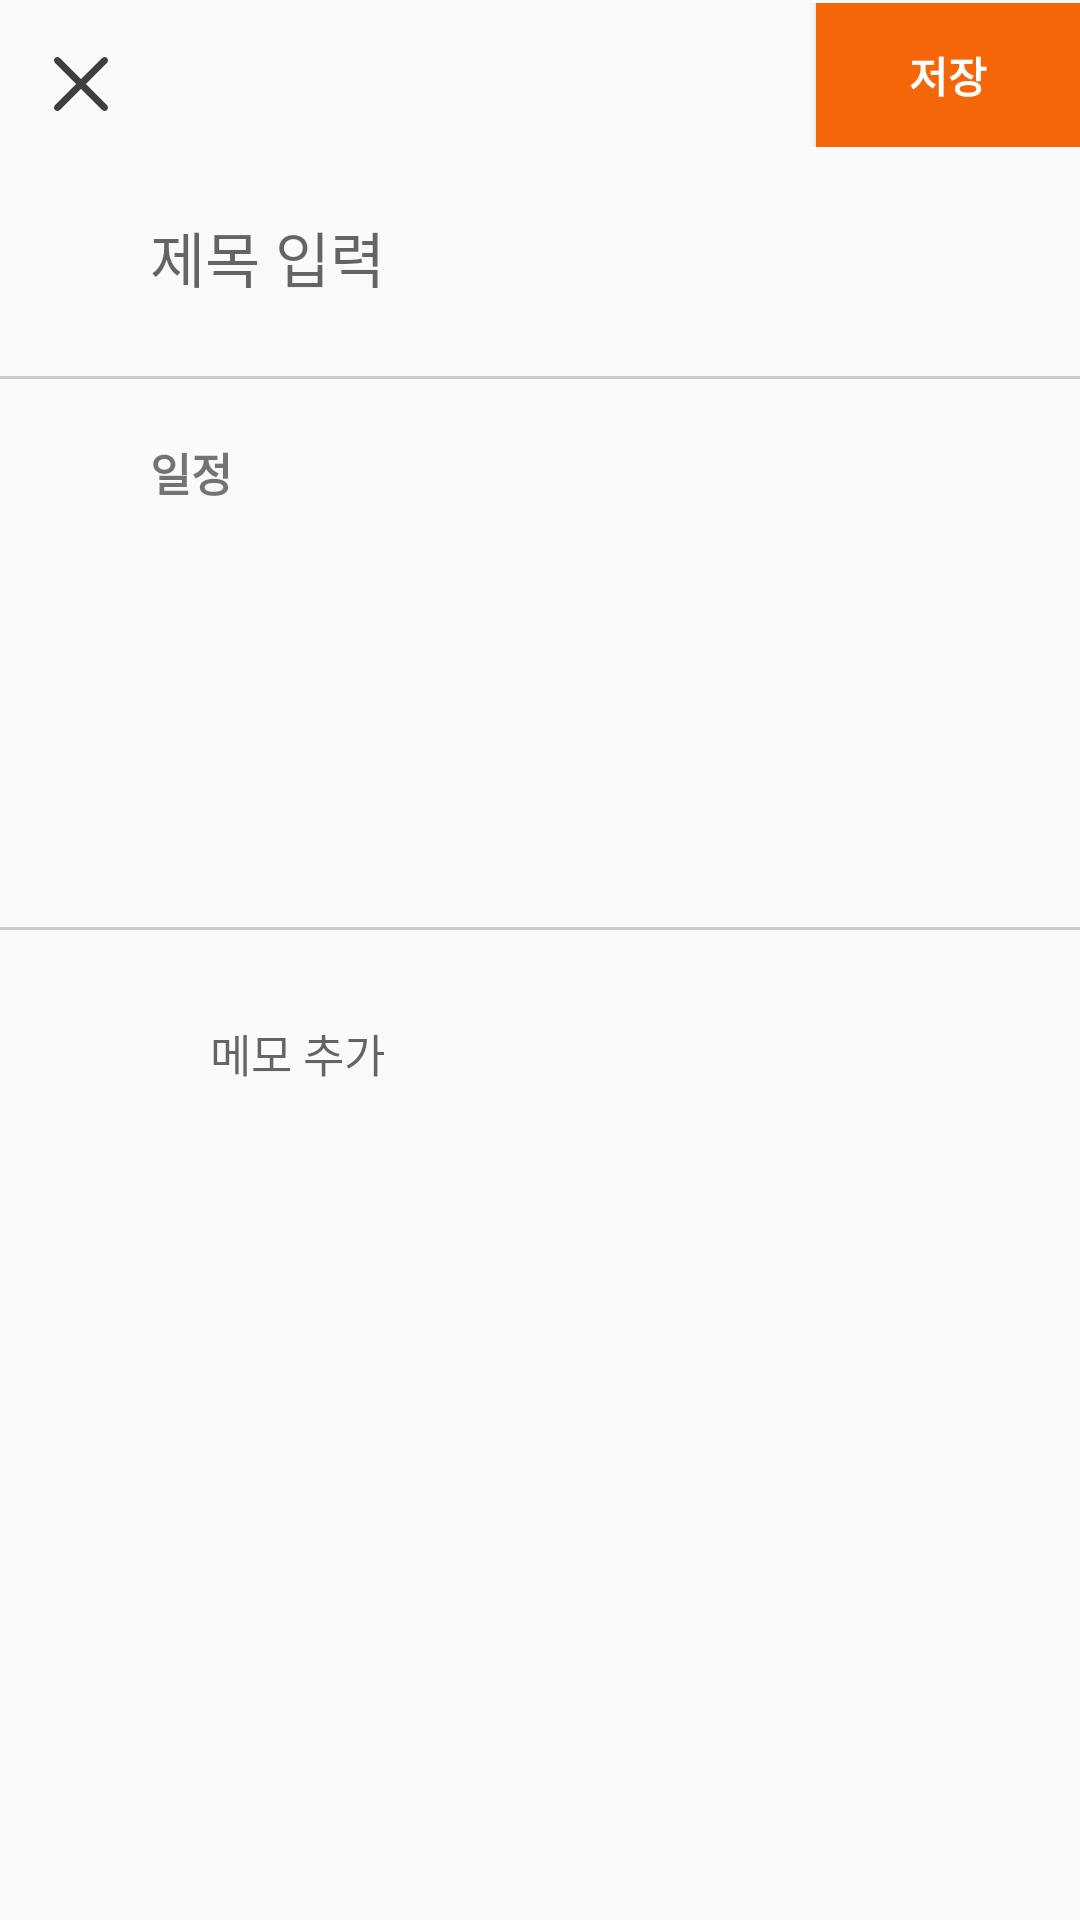

Locate icon controls on the screen. Image size 1080×1920, boxes as {"left": x1, "top": y1, "right": x2, "bottom": y2}.
close: {"left": 54, "top": 57, "right": 108, "bottom": 111}
